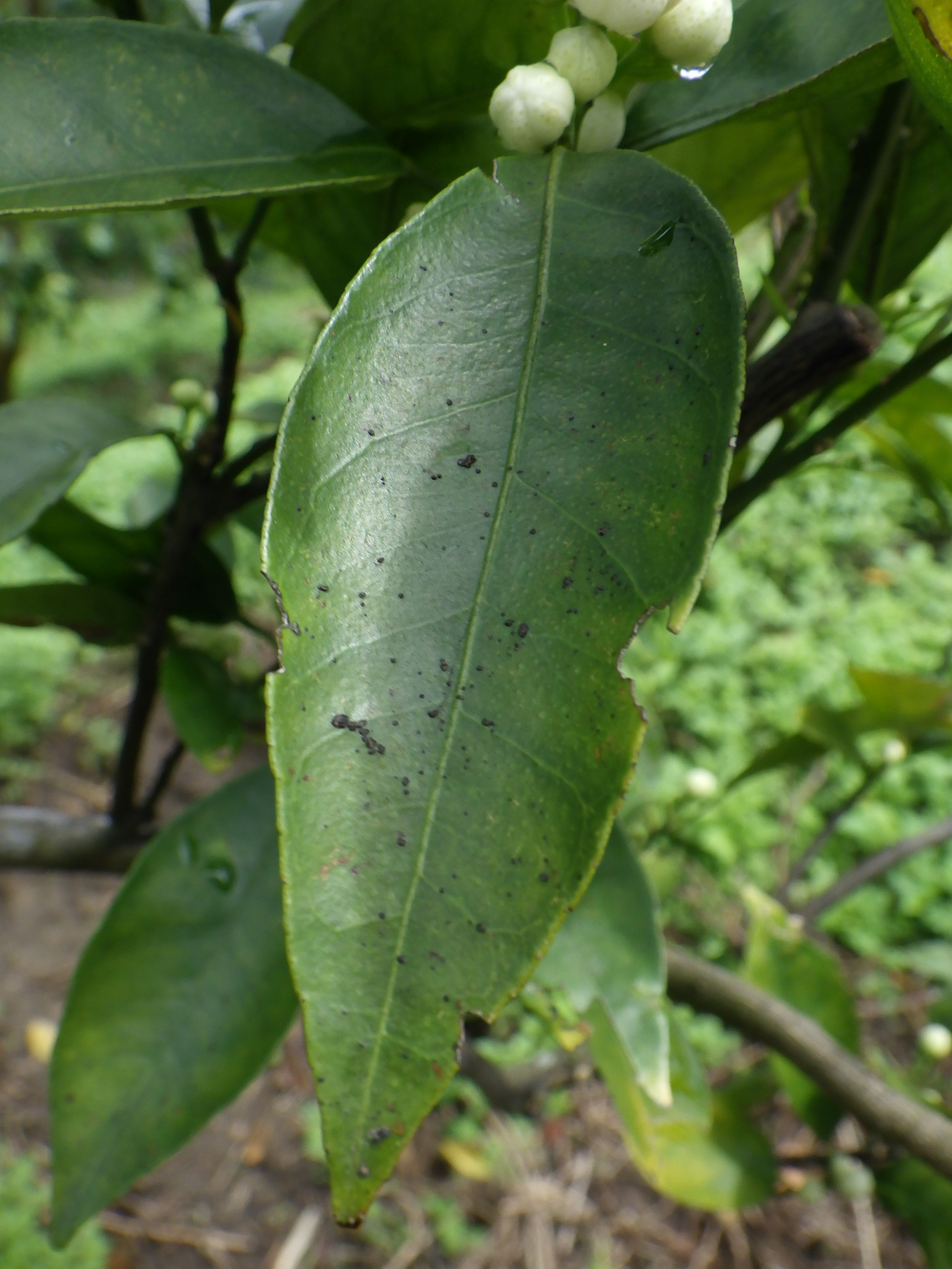Oily_Spot: (264, 149, 743, 1221)
